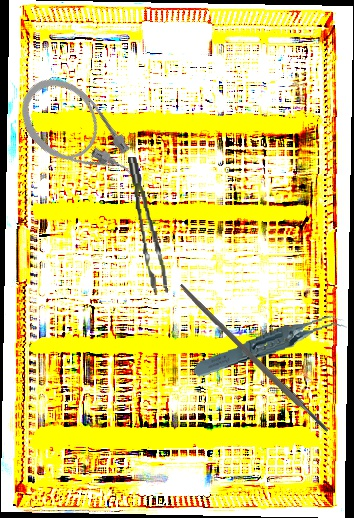Cannula: (6, 63, 150, 208)
Scalpel Handle: (177, 282, 330, 435)
Tissue Forceps: (189, 313, 352, 380), (127, 155, 169, 296)
